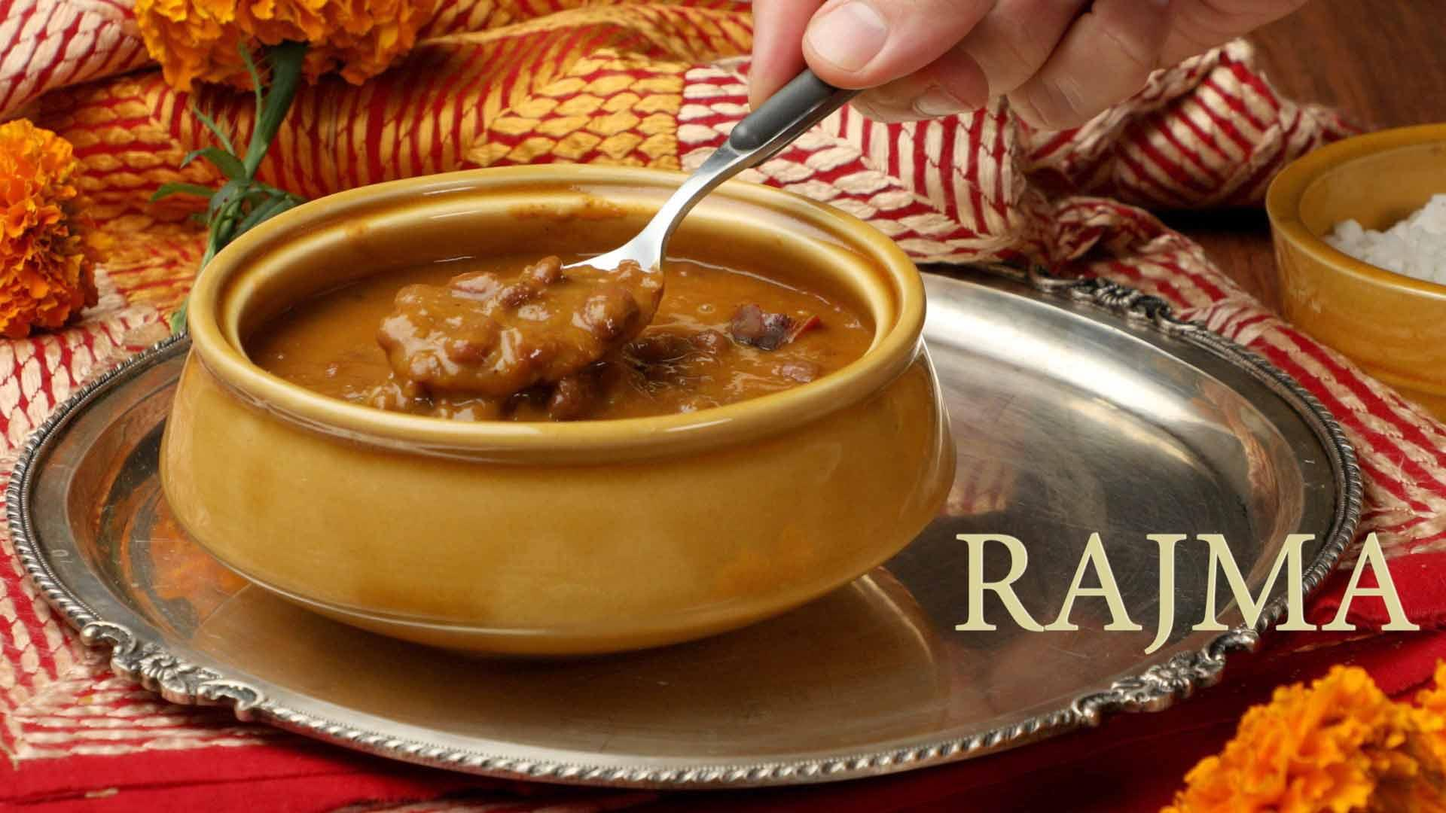rajma: (297, 258, 887, 444)
